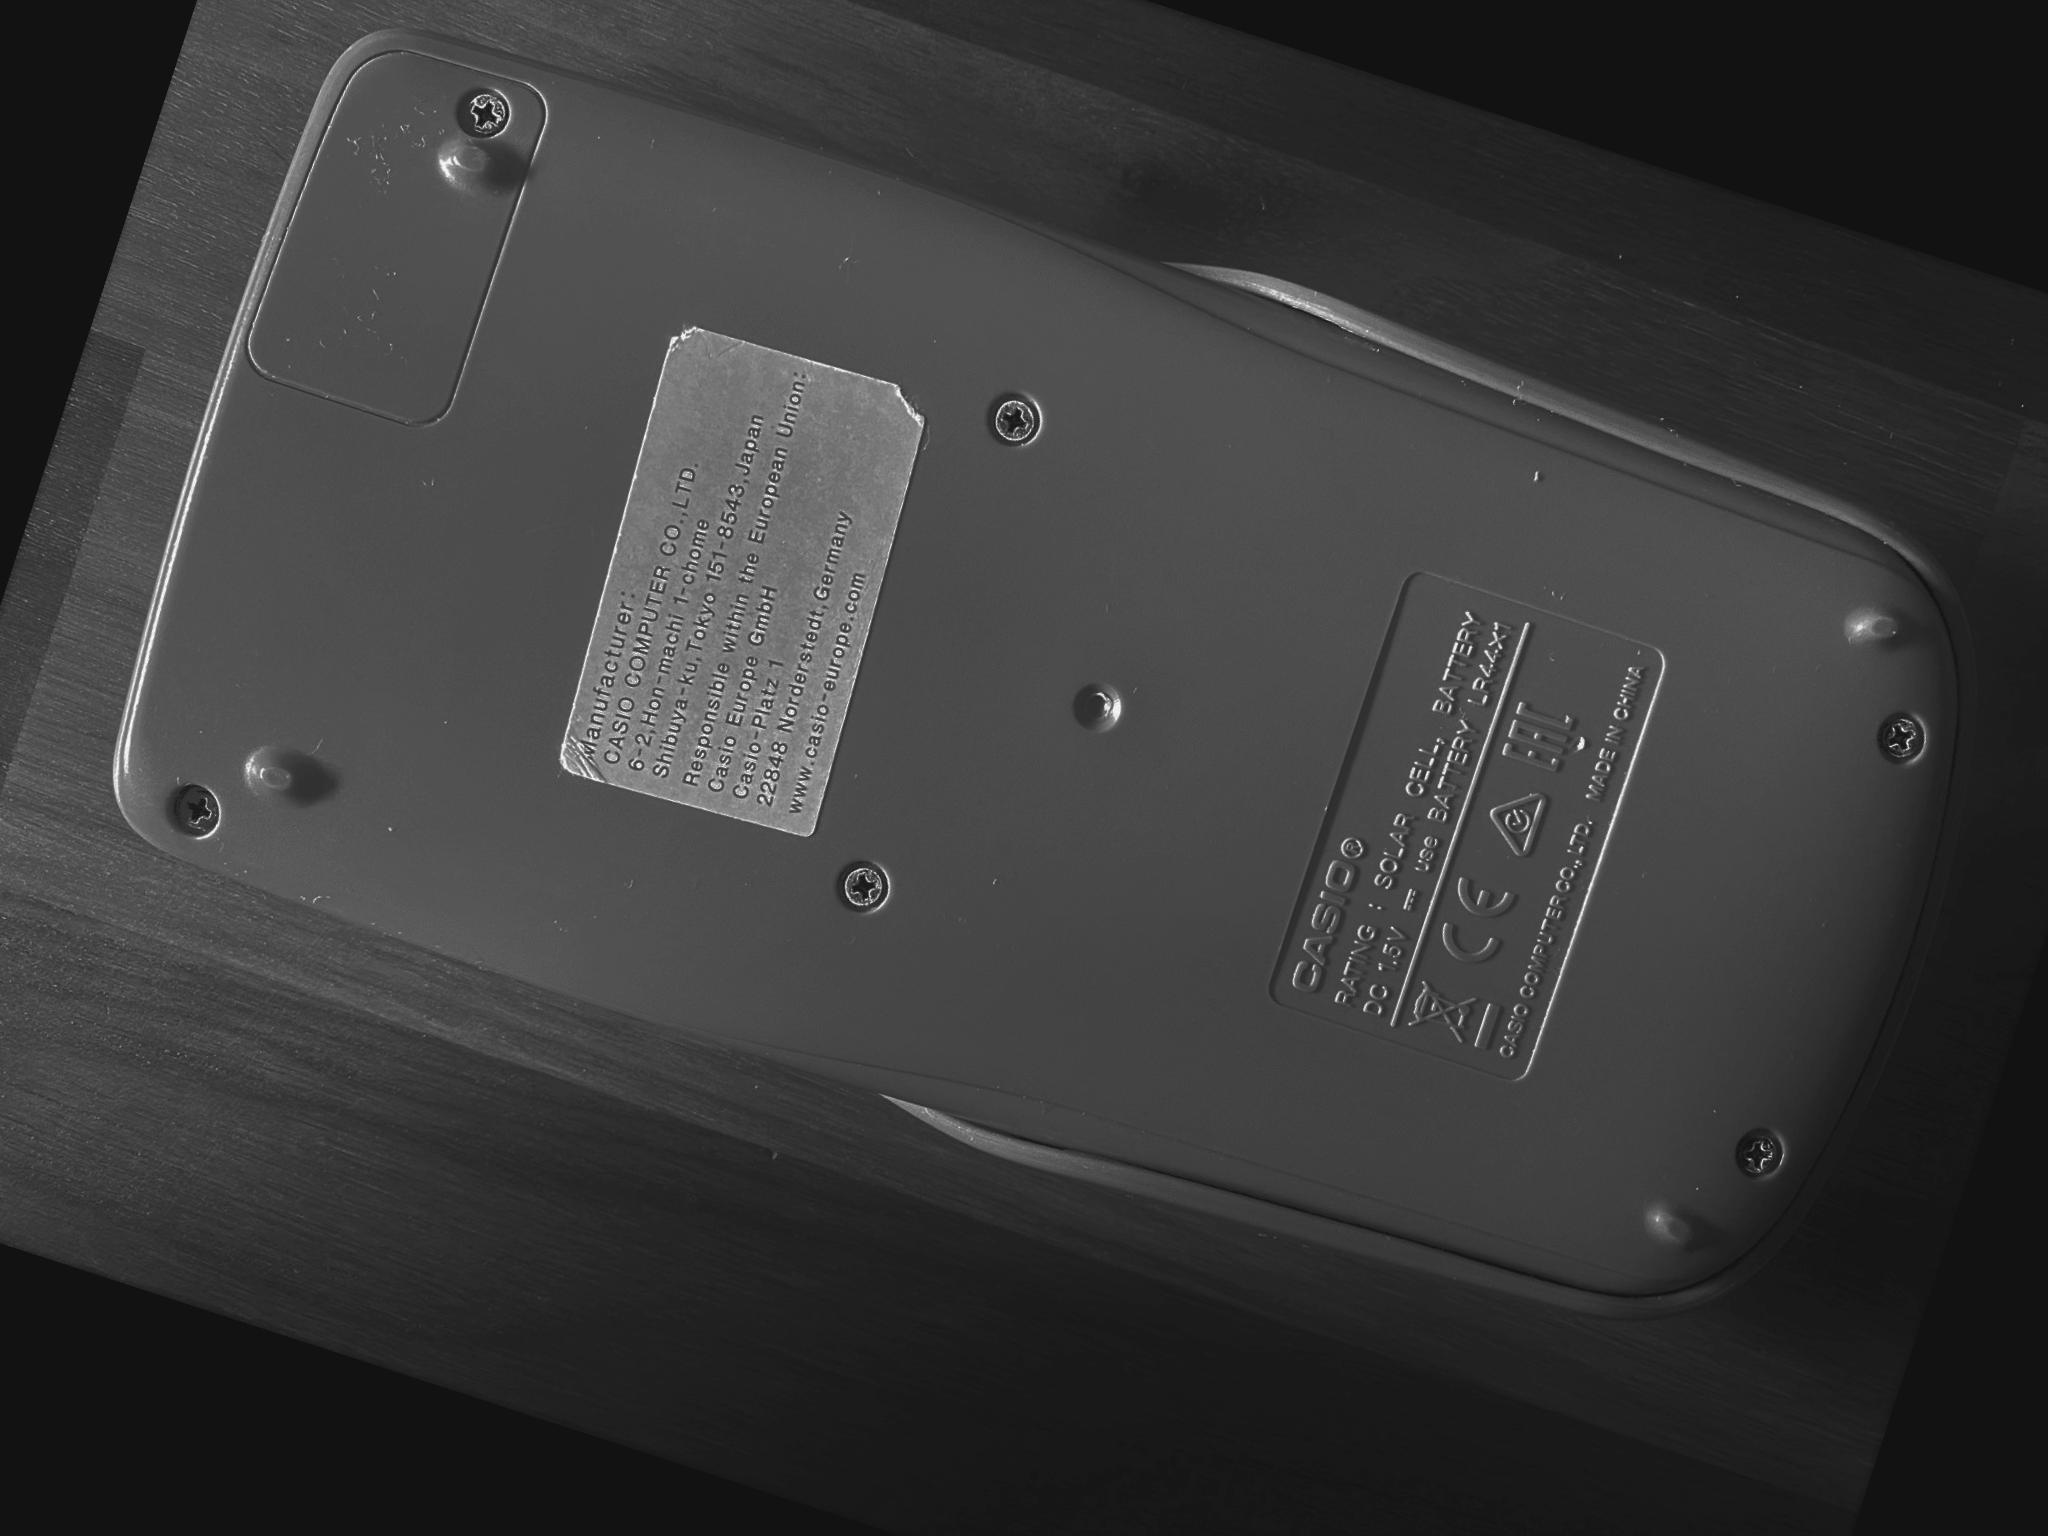philips-PZ: (164, 776, 229, 841), (1732, 1123, 1792, 1186), (453, 84, 518, 142), (989, 390, 1045, 450), (835, 857, 892, 916), (1880, 712, 1927, 762)
